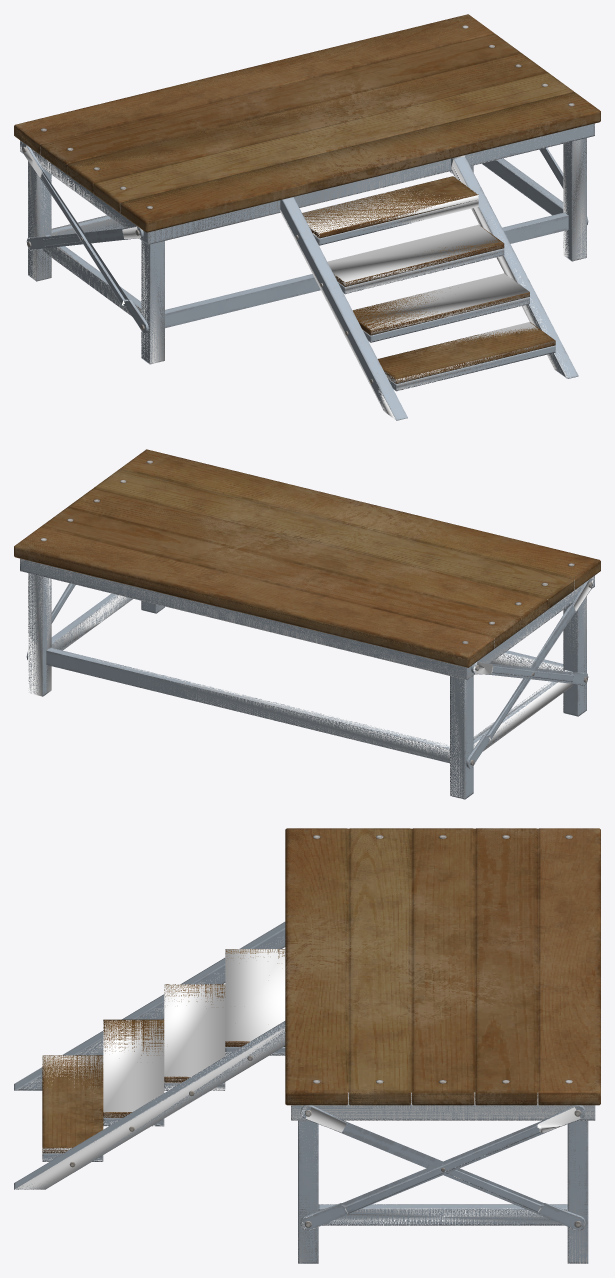
File: a_sch_ground01_obj_step01.gltf
The picture shows the model from 3 angles, top to bottom: view 1: azimuth 30°, elevation 25°; view 2: azimuth 150°, elevation 25°; view 3: azimuth 270°, elevation 25°; orthographic projection. The views are drawn at different scales.
Parts seen in each view (by area): view 1: um_a_sch_ground01_obj_step01_model_lod0Shape:a_sch_ground01_ (×2), um_a_sch_ground01_obj_step01_model_lod1Shape:a_sch_ground01_, um_a_sch_ground01_obj_step01_model_lod2Shape:a_sch_ground01_; view 2: um_a_sch_ground01_obj_step01_model_lod0Shape:a_sch_ground01_ (×2), um_a_sch_ground01_obj_step01_model_lod1Shape:a_sch_ground01_, um_a_sch_ground01_obj_step01_model_lod2Shape:a_sch_ground01_; view 3: um_a_sch_ground01_obj_step01_model_lod0Shape:a_sch_ground01_ (×2), um_a_sch_ground01_obj_step01_model_lod2Shape:a_sch_ground01_, um_a_sch_ground01_obj_step01_model_lod1Shape:a_sch_ground01_.
Boxes of the visible parts, x1,y1,x2,y2 form: um_a_sch_ground01_obj_step01_model_lod0Shape:a_sch_ground01_ (×2): [14, 14, 600, 420]; um_a_sch_ground01_obj_step01_model_lod1Shape:a_sch_ground01_: [14, 14, 600, 332]; um_a_sch_ground01_obj_step01_model_lod2Shape:a_sch_ground01_: [27, 33, 571, 332]; um_a_sch_ground01_obj_step01_model_lod0Shape:a_sch_ground01_ (×2): [14, 449, 600, 799]; um_a_sch_ground01_obj_step01_model_lod1Shape:a_sch_ground01_: [14, 449, 600, 768]; um_a_sch_ground01_obj_step01_model_lod2Shape:a_sch_ground01_: [41, 468, 587, 767]; um_a_sch_ground01_obj_step01_model_lod0Shape:a_sch_ground01_ (×2): [14, 828, 600, 1263]; um_a_sch_ground01_obj_step01_model_lod2Shape:a_sch_ground01_: [17, 828, 583, 1230]; um_a_sch_ground01_obj_step01_model_lod1Shape:a_sch_ground01_: [285, 828, 600, 1230].
Size of the model in its own units: 4 by 1.26 by 3.75.
Materials: 2 (1 with a texture image).
